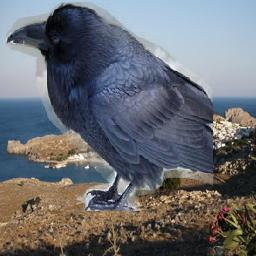Crow: (7, 3, 214, 212)
